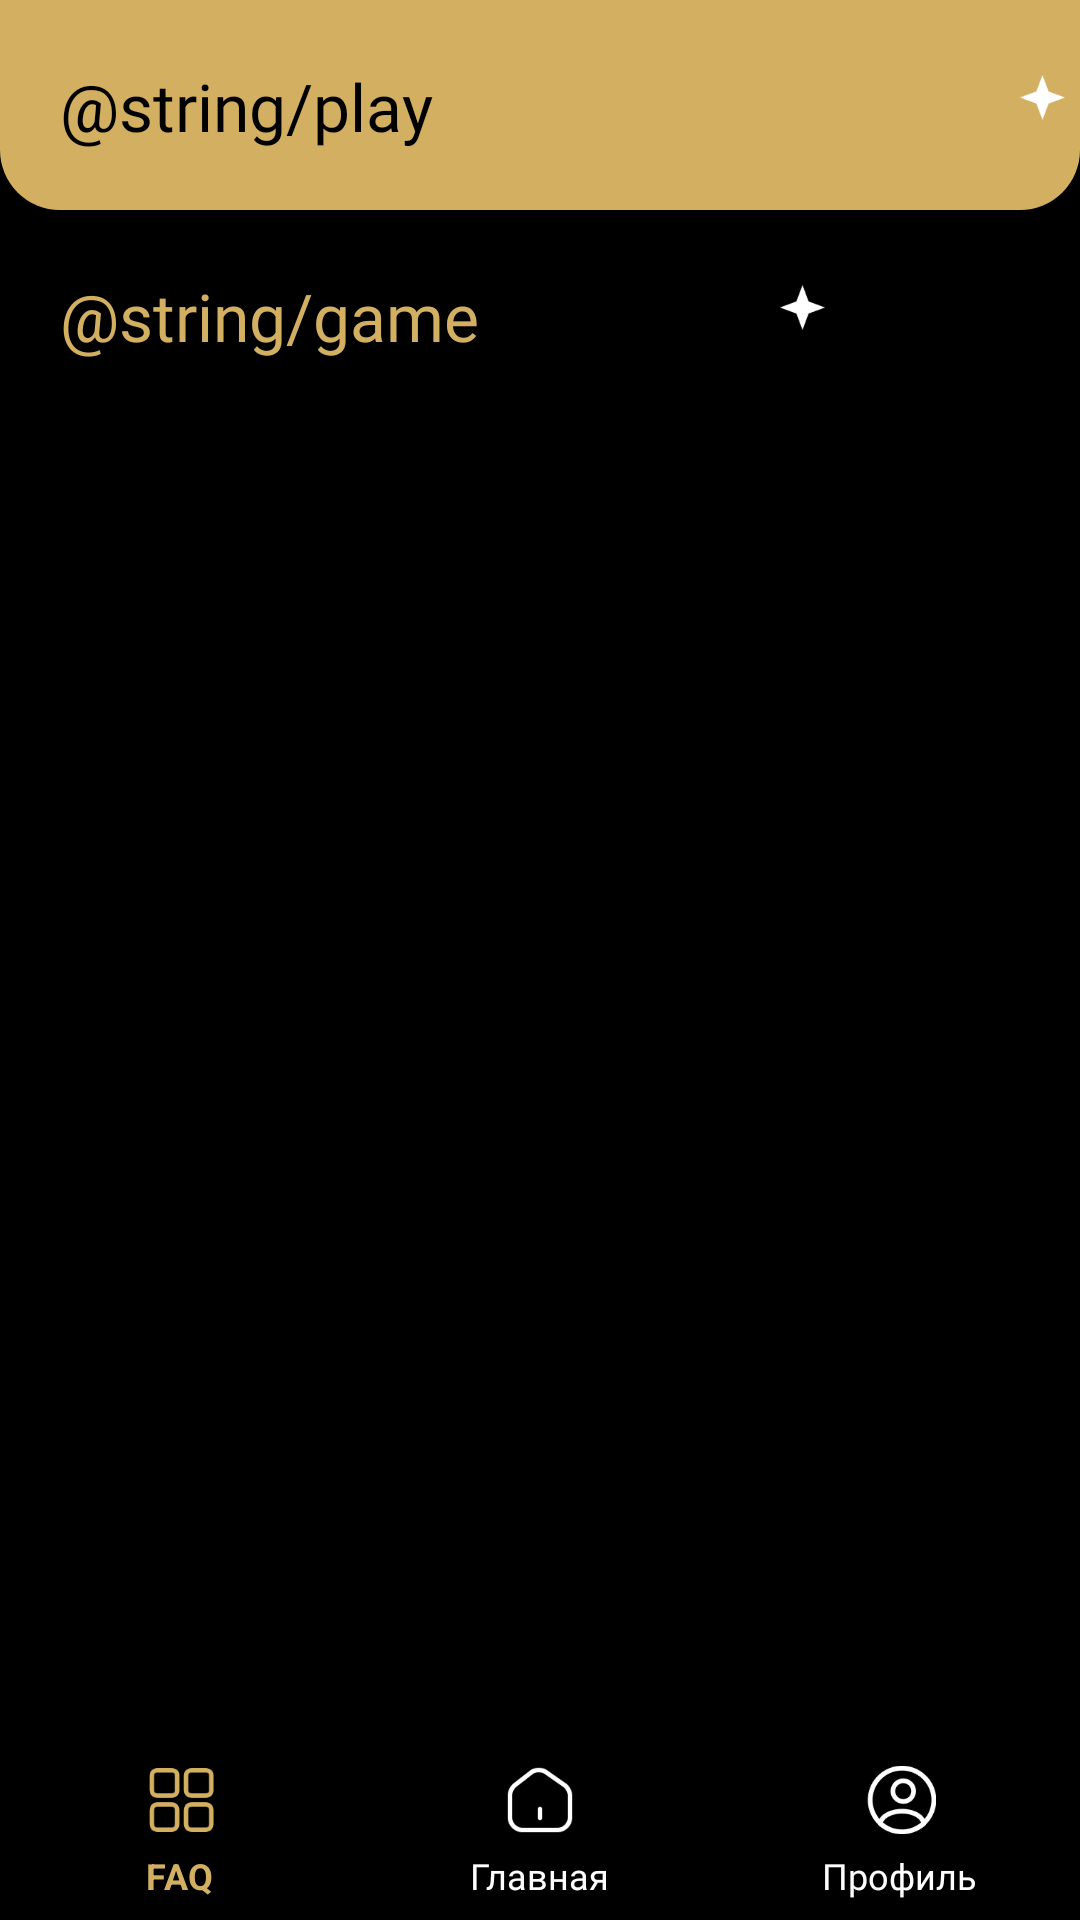

Point at icon controls on the screen. Image size 1080 x 1920, points as [x,y].
star: [1042,97], [802,307]
